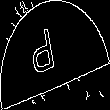P_S: (39, 26, 71, 84)
